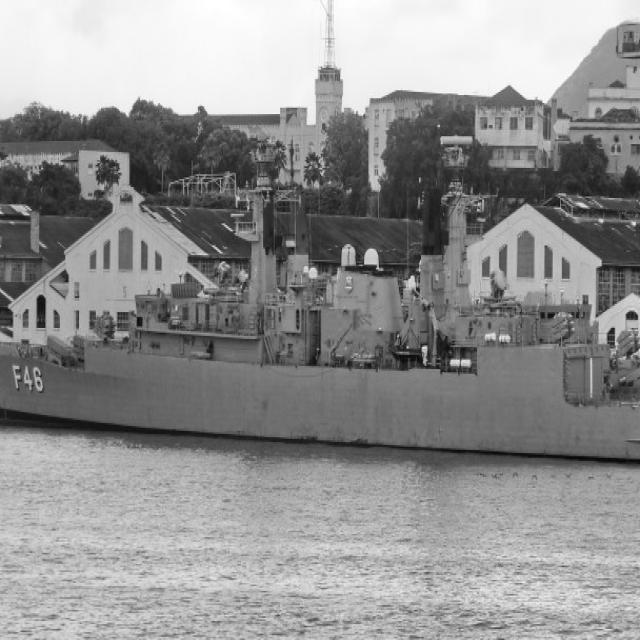Fragata: (1, 171, 640, 472)
